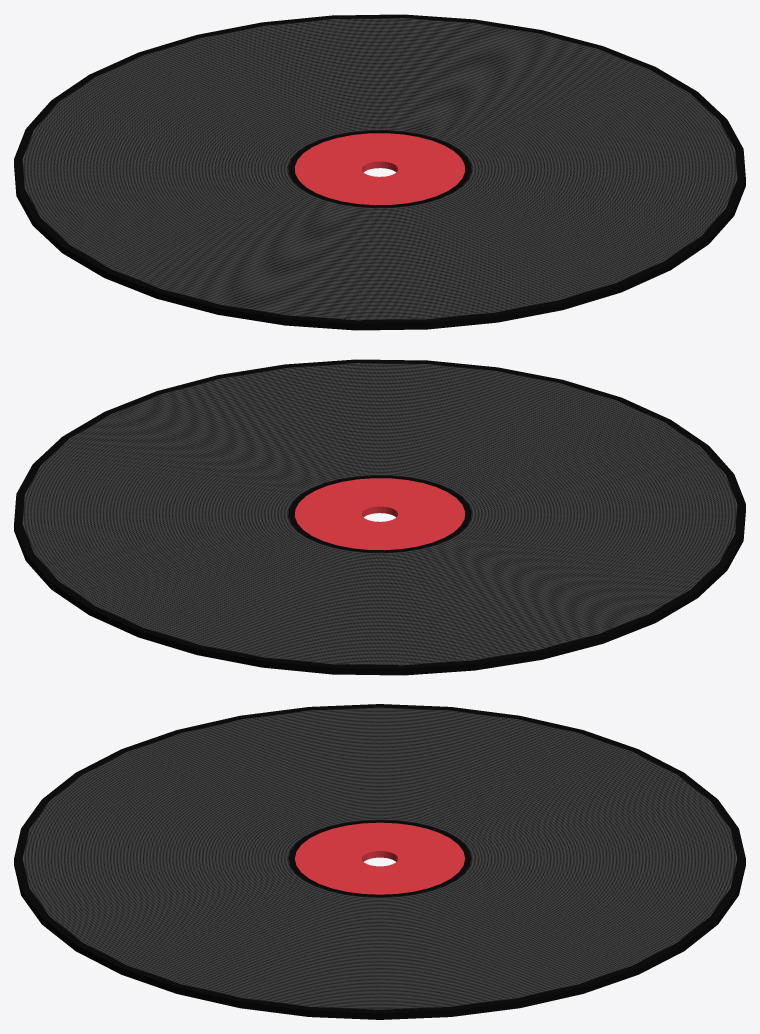
File: Disco.fbx
3 views of the same model, one above another, from view 1: azimuth 30°, elevation 25°; view 2: azimuth 150°, elevation 25°; view 3: azimuth 270°, elevation 25° (orthographic).
Parts seen in each view (by area): view 1: Circle; view 2: Circle; view 3: Circle.
Boxes of the visible parts, x1=… form: Circle: x1=14, y1=14, x2=745, y2=330; Circle: x1=14, y1=359, x2=745, y2=675; Circle: x1=14, y1=704, x2=745, y2=1019.
Bounding box in the file's own units: 200 × 2 × 200.
3 materials, 1 textured.
